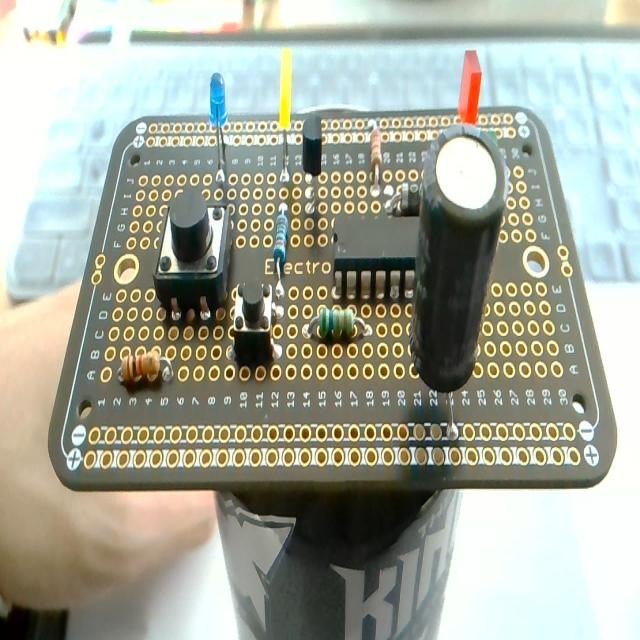Electrolytic capacitor: (410, 125, 504, 391)
IC: (334, 165, 422, 294)
diode: (387, 184, 419, 216)
led: (208, 71, 229, 192), (457, 49, 483, 125), (278, 50, 292, 184)
resistor: (304, 307, 371, 344), (118, 348, 173, 386), (272, 204, 290, 303), (368, 119, 382, 187)
switch: (154, 193, 233, 318), (230, 278, 281, 364)
transistor: (302, 116, 322, 229)
